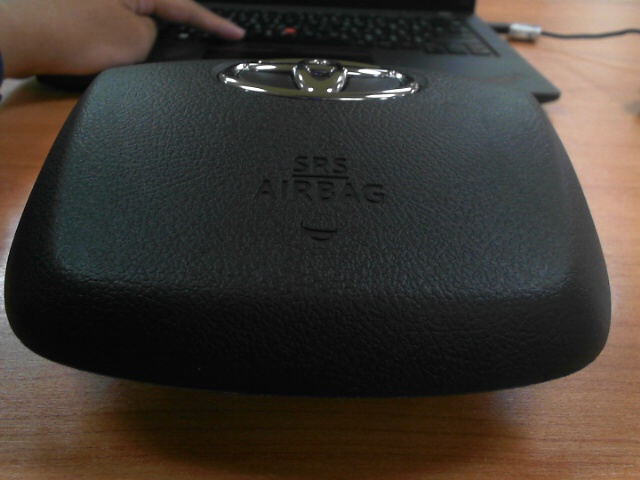Airbag: (4, 56, 614, 402)
